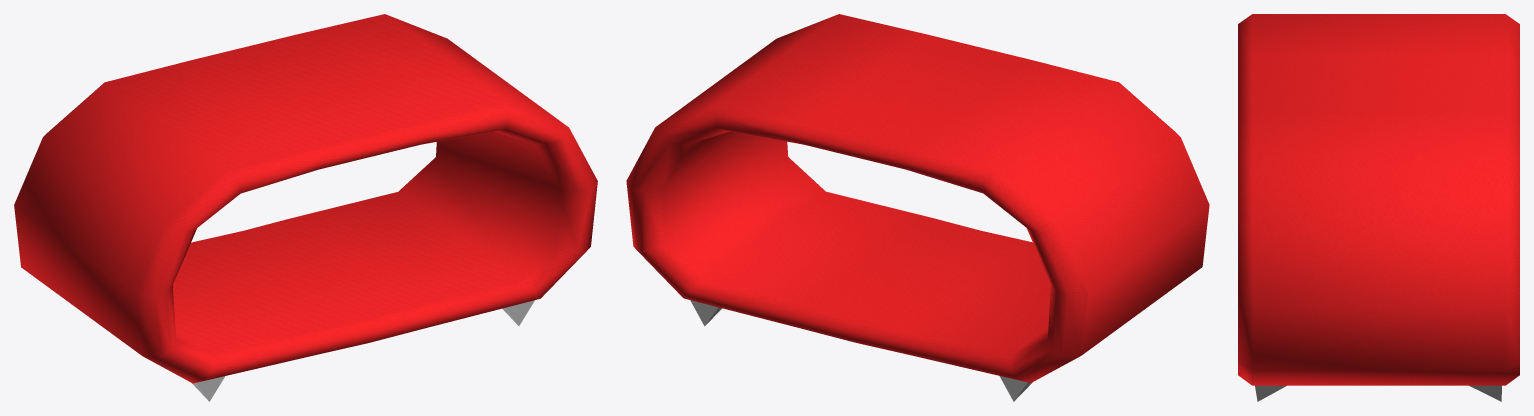
The model's file is Open_Stool_H_2.FBX.
3 views of the same model, side by side, from view 1: azimuth 30°, elevation 25°; view 2: azimuth 150°, elevation 25°; view 3: azimuth 270°, elevation 25° (orthographic). The views are drawn at different scales.
Visible parts, largest first — view 1: Stool_01; view 2: Stool_01; view 3: Stool_01.
Part boxes in pixels (bbox=[...]): Stool_01: bbox=[14, 14, 597, 401]; Stool_01: bbox=[626, 14, 1209, 401]; Stool_01: bbox=[1238, 14, 1519, 401].
Size of the model in its own units: 172 by 81.63 by 87.07.
